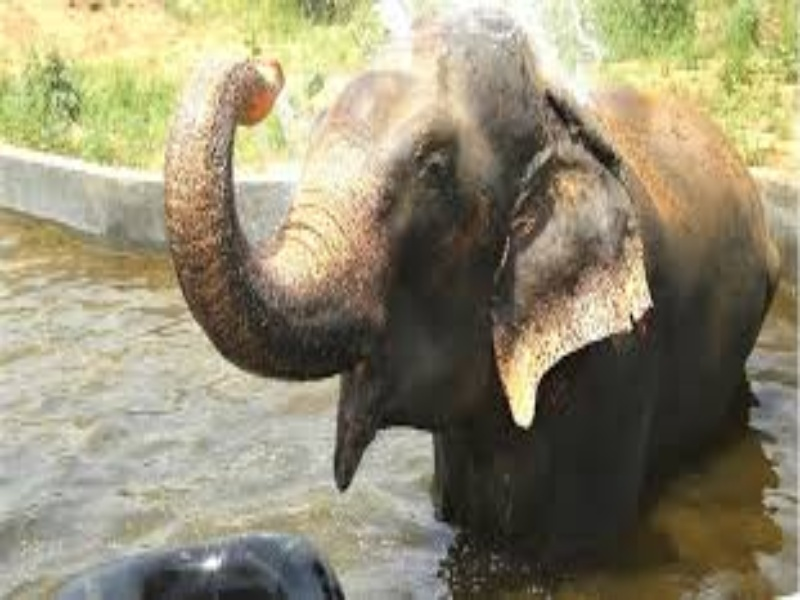elephant: (88, 13, 790, 582)
